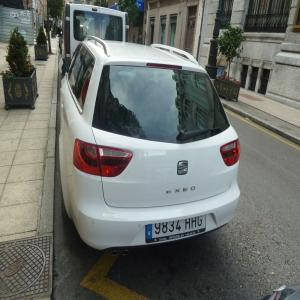Vehicle-registration-plate: (146, 215, 207, 244)
